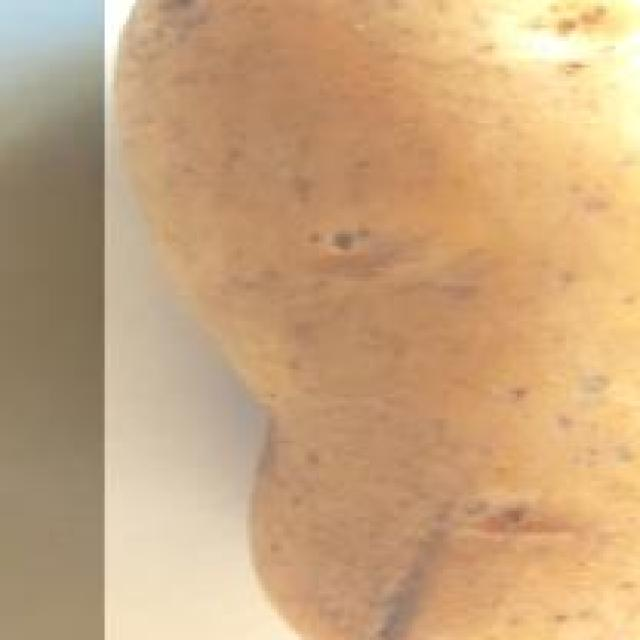potato: (105, 0, 640, 640)
